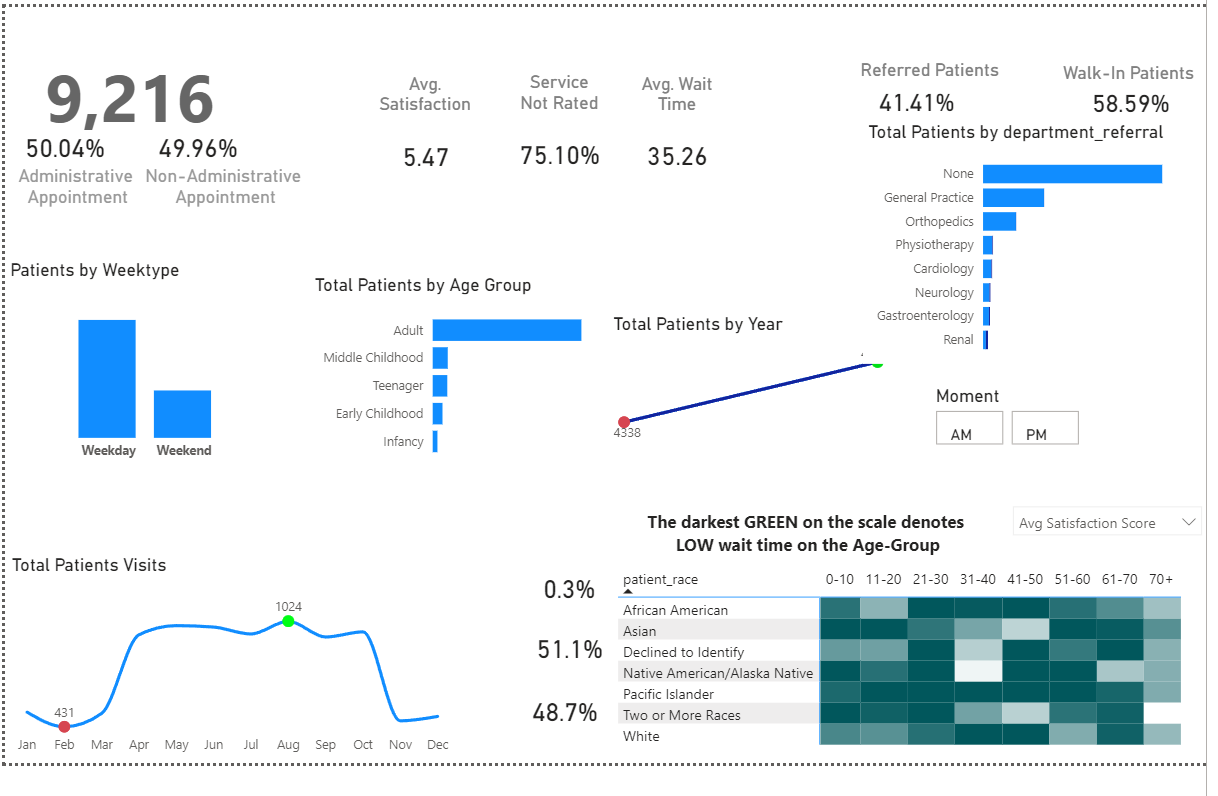

What the dashboard file says about the page in this screenshot:
{"tool":"powerbi","page":{"name":"Page 1","canvas":[1280,720],"ordinal":0},"visuals":[{"type":"card","fields":{"Values":["Calculation.Total Patients"]},"box":[96.4,85.5,172.6,73.1],"z":0},{"type":"textbox","box":[10,570,280,150],"z":1000},{"type":"card","fields":{"Values":["Calculation.% Administrative Schedule"]},"box":[46.6,153.9,132.1,40.4],"z":2000},{"type":"card","fields":{"Values":["Calculation.% None Administrative Schedule"]},"box":[213,149.2,93.3,49.7],"z":3000},{"type":"pivotTable","fields":{"Values":["Calculation.Average Satisfaction Score"],"Rows":["Patient Dataset.patient_race"],"Columns":["Patient Dataset.Age Buckets"]},"box":[632.9,502.7,605.7,205.9],"z":4000},{"type":"slicer","fields":{"Values":["Parameter.Parameter"]},"box":[1052.4,467.9,186.2,48.5],"z":5000},{"type":"clusteredBarChart","fields":{"Category":["Patient Dataset.Age Group"],"Y":["Calculation.Total Patients"]},"box":[307.4,283.2,252.9,184.7],"z":6000},{"type":"lineChart","title":"Total Patients Visit","fields":{"Category":["Date.Month"],"Y":["Calculation.Total Patients","Calculation.Value Max Point (Month)"]},"box":[30.3,519.4,364.9,199.9],"z":7000},{"type":"advancedSlicerVisual","fields":{"Values":["Patient Dataset.Moment"]},"box":[914.6,24.2,233.2,51.5],"z":8000},{"type":"lineChart","title":"Total Patients Visits by Year","fields":{"Category":["Date.Year"],"Y":["Calculation.Total Patients","Calculation.Value Max Point (Year)"]},"box":[570.9,334.6,272.6,81.8],"z":9000},{"type":"clusteredBarChart","fields":{"Y":["Calculation.Total Patients"],"Category":["Patient Dataset.department_referral"]},"box":[872.2,213.5,358.9,240.8],"z":10000},{"type":"card","fields":{"Values":["Calculation.% Referred Patients"]},"box":[885.1,136.5,106.8,35.1],"z":11000},{"type":"card","fields":{"Values":["Calculation.% Un Referred Patients"]},"box":[1086.5,136.5,101.4,35.1],"z":12000},{"type":"card","fields":{"Values":["Calculation.HEatMAp Cation"]},"box":[613.3,442.1,349.8,72.7],"z":13000},{"type":"textbox","box":[43.5,181.9,138.4,62.2],"z":14000},{"type":"textbox","box":[166.3,181.9,164.8,70],"z":15000},{"type":"card","title":"Avg. Satisfaction","fields":{"Values":["Calculation.Average Satisfaction Score"]},"box":[375.5,137.8,98.4,75.7],"z":16000},{"type":"card","title":"Avg. Wait Time","fields":{"Values":["Calculation.Average Wait Time"]},"box":[692,142.3,106,71.2],"z":17000},{"type":"card","title":"Service Not Rated","fields":{"Values":["Calculation.% No Rating"]},"box":[542.1,142.3,98.4,71.2],"z":18000},{"type":"textbox","box":[843.2,102.7,191.9,39.2],"z":19000},{"type":"textbox","box":[1052.7,102.7,171.6,39.2],"z":20000},{"type":"columnChart","title":"Patients by WeekType","fields":{"Category":["Date.WeekType"],"Y":["Calculation.Total Patients"]},"box":[43.9,274.1,251.4,193.8],"z":21000},{"type":"card","fields":{"Values":["Calculation.% Female Visit"]},"box":[502.7,519.4,89.3,72.7],"z":22000},{"type":"card","fields":{"Values":["Calculation.% Unknown"]},"box":[496.7,620.8,90.9,74.2],"z":23000},{"type":"card","fields":{"Values":["Calculation.% Male Visit"]},"box":[501.2,569.3,90.9,74.2],"z":24000},{"type":"textbox","box":[102.6,76.2,157,35.8],"z":25000},{"type":"PBI_CV_25997FEB_F466_44FA_B562_AC4063283C4C","fields":{"measure":["Calculation.Average Satisfaction Score"],"axis":["Date.Month"]},"box":[364.9,199.9,125.7,48.5],"z":26000},{"type":"PBI_CV_25997FEB_F466_44FA_B562_AC4063283C4C","fields":{"measure":["Calculation.Average Wait Time"],"axis":["Date.Month"]},"box":[687.4,199.9,125.7,48.5],"z":27000},{"type":"PBI_CV_25997FEB_F466_44FA_B562_AC4063283C4C","fields":{"measure":["Calculation.% No Rating"],"axis":["Date.Month"]},"box":[517.9,195.3,125.7,48.5],"z":28000},{"type":"textbox","box":[469.4,502.7,137.8,37.9],"z":29000},{"type":"textbox","box":[481.5,564.8,131.7,42.4],"z":30000},{"type":"textbox","box":[473.9,614.8,137.8,37.9],"z":31000},{"type":"textbox","box":[473.9,669.3,137.8,37.9],"z":32000},{"type":"textbox","box":[949.4,477,137.8,37.9],"z":33000},{"type":"textbox","box":[75.7,12.1,420.9,37.9],"z":34000}]}

Visuals, with their boxes on the page's 1280x720 design canvas (x1, y1, x2, y2). These are canvas units, not pixel positions in the 1218x796 screenshot, which may show the page scaled, cropped or inside an application window:
card - Calculation.Total Patients: {"left": 96, "top": 86, "right": 269, "bottom": 159}
textbox: {"left": 10, "top": 570, "right": 290, "bottom": 720}
card - Calculation.% Administrative Schedule: {"left": 47, "top": 154, "right": 179, "bottom": 194}
card - Calculation.% None Administrative Schedule: {"left": 213, "top": 149, "right": 306, "bottom": 199}
pivotTable - Calculation.Average Satisfaction Score x Patient Dataset.patient_race: {"left": 633, "top": 503, "right": 1239, "bottom": 709}
slicer - Parameter.Parameter: {"left": 1052, "top": 468, "right": 1239, "bottom": 516}
clusteredBarChart - Patient Dataset.Age Group x Calculation.Total Patients: {"left": 307, "top": 283, "right": 560, "bottom": 468}
"Total Patients Visit" lineChart: {"left": 30, "top": 519, "right": 395, "bottom": 719}
advancedSlicerVisual - Patient Dataset.Moment: {"left": 915, "top": 24, "right": 1148, "bottom": 76}
"Total Patients Visits by Year" lineChart: {"left": 571, "top": 335, "right": 844, "bottom": 416}
clusteredBarChart - Calculation.Total Patients x Patient Dataset.department_referral: {"left": 872, "top": 214, "right": 1231, "bottom": 454}
card - Calculation.% Referred Patients: {"left": 885, "top": 136, "right": 992, "bottom": 172}
card - Calculation.% Un Referred Patients: {"left": 1086, "top": 136, "right": 1188, "bottom": 172}
card - Calculation.HEatMAp Cation: {"left": 613, "top": 442, "right": 963, "bottom": 515}
textbox: {"left": 44, "top": 182, "right": 182, "bottom": 244}
textbox: {"left": 166, "top": 182, "right": 331, "bottom": 252}
"Avg. Satisfaction" card: {"left": 376, "top": 138, "right": 474, "bottom": 214}
"Avg. Wait Time" card: {"left": 692, "top": 142, "right": 798, "bottom": 214}
"Service Not Rated" card: {"left": 542, "top": 142, "right": 640, "bottom": 214}
textbox: {"left": 843, "top": 103, "right": 1035, "bottom": 142}
textbox: {"left": 1053, "top": 103, "right": 1224, "bottom": 142}
"Patients by WeekType" columnChart: {"left": 44, "top": 274, "right": 295, "bottom": 468}
card - Calculation.% Female Visit: {"left": 503, "top": 519, "right": 592, "bottom": 592}
card - Calculation.% Unknown: {"left": 497, "top": 621, "right": 588, "bottom": 695}
card - Calculation.% Male Visit: {"left": 501, "top": 569, "right": 592, "bottom": 644}
textbox: {"left": 103, "top": 76, "right": 260, "bottom": 112}
PBI_CV_25997FEB_F466_44FA_B562_AC4063283C4C - Calculation.Average Satisfaction Score x Date.Month: {"left": 365, "top": 200, "right": 491, "bottom": 248}
PBI_CV_25997FEB_F466_44FA_B562_AC4063283C4C - Calculation.Average Wait Time x Date.Month: {"left": 687, "top": 200, "right": 813, "bottom": 248}
PBI_CV_25997FEB_F466_44FA_B562_AC4063283C4C - Calculation.% No Rating x Date.Month: {"left": 518, "top": 195, "right": 644, "bottom": 244}
textbox: {"left": 469, "top": 503, "right": 607, "bottom": 541}
textbox: {"left": 482, "top": 565, "right": 613, "bottom": 607}
textbox: {"left": 474, "top": 615, "right": 612, "bottom": 653}
textbox: {"left": 474, "top": 669, "right": 612, "bottom": 707}
textbox: {"left": 949, "top": 477, "right": 1087, "bottom": 515}
textbox: {"left": 76, "top": 12, "right": 497, "bottom": 50}
